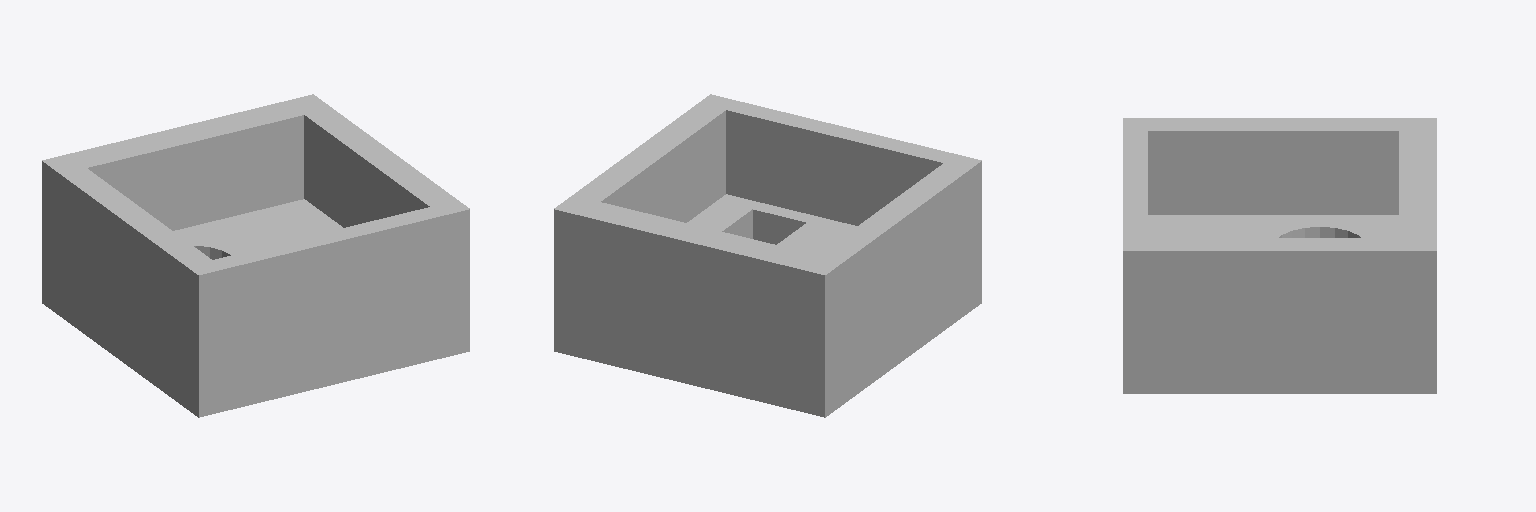
File: container.obj
The picture shows the model from 3 angles: view 1: azimuth 30°, elevation 25°; view 2: azimuth 150°, elevation 25°; view 3: azimuth 270°, elevation 25°; orthographic projection.
Parts seen in each view (by area): view 1: polySurface7; view 2: polySurface7; view 3: polySurface7.
Part boxes in pixels (left/top/right/bottom): polySurface7: left=42, top=94, right=469, bottom=417; polySurface7: left=554, top=94, right=981, bottom=417; polySurface7: left=1123, top=118, right=1436, bottom=393.
Bounding box in the file's own units: 10 × 5 × 10.